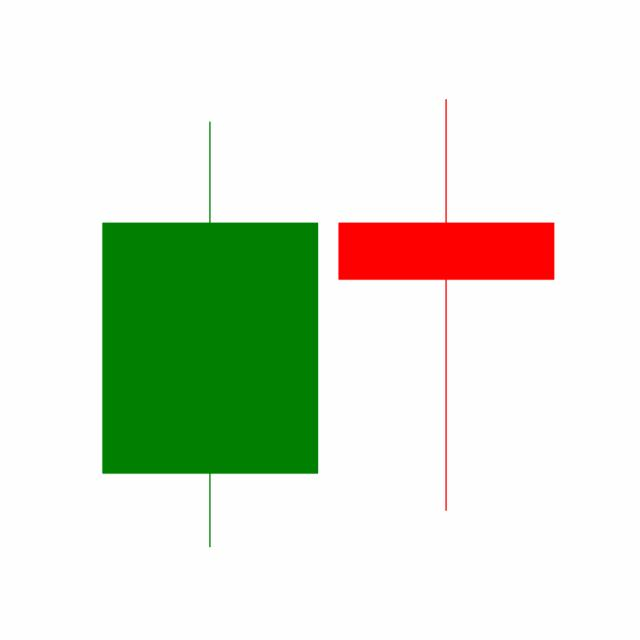Spinning Top: (327, 95, 565, 516)
